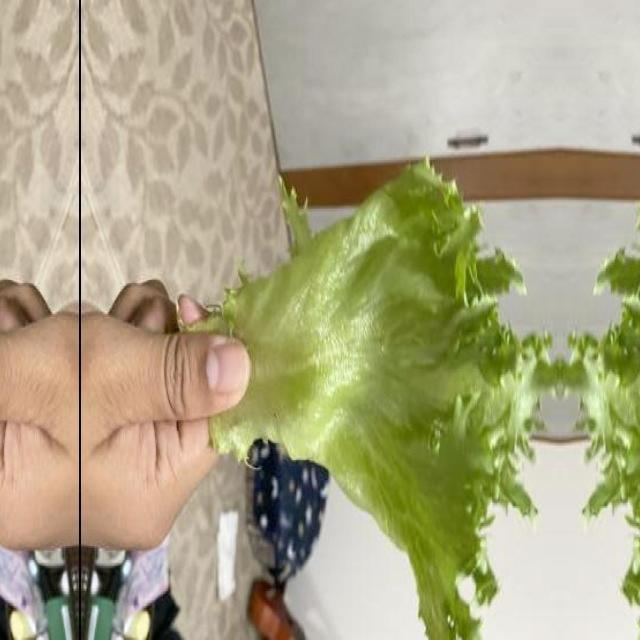healthy: (200, 155, 559, 640), (560, 155, 640, 640)
